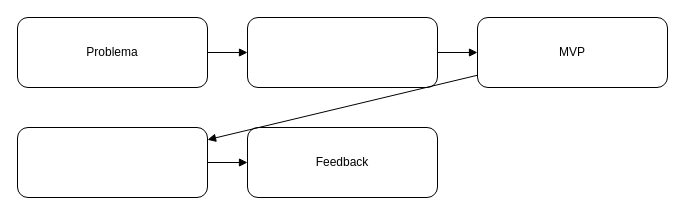
The diagram is 685 pixels wide and 215 high, and some of its shapes have lost their labels. The centre of each missing label's shape, as x and y in pixels:
Persona: point (342, 52)
Sistema Java: point (112, 162)
